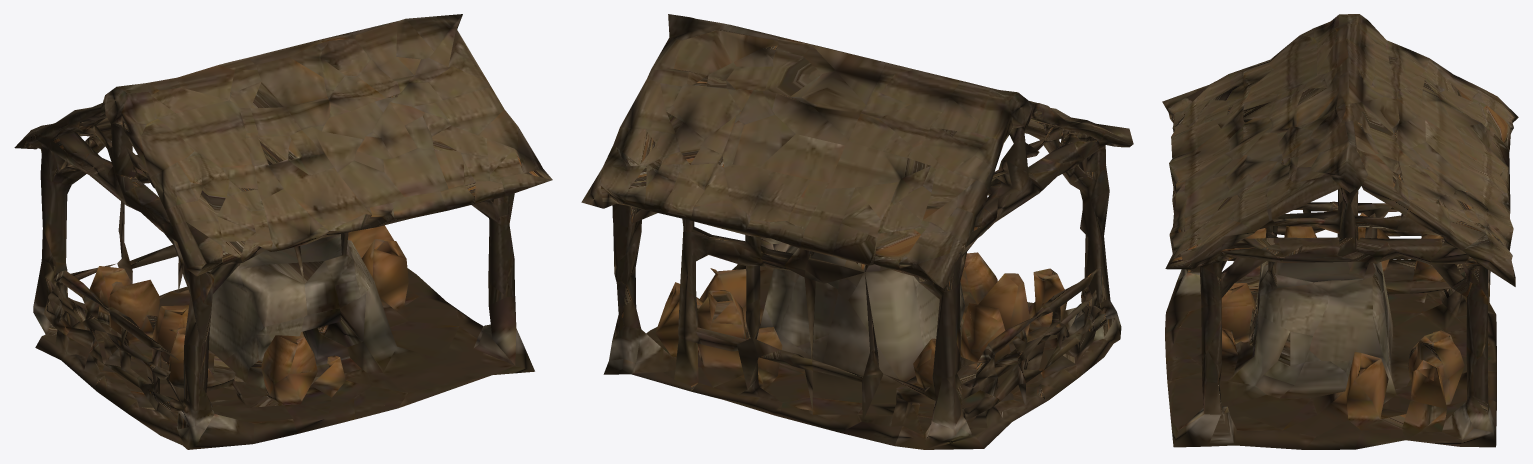
The model's file is bq_pottery.far.glb.
The picture shows the model from 3 angles, left to right: view 1: azimuth 30°, elevation 25°; view 2: azimuth 150°, elevation 25°; view 3: azimuth 270°, elevation 25°; orthographic projection. The views are drawn at different scales.
Parts seen in each view (by area): view 1: mesh_node; view 2: mesh_node; view 3: mesh_node.
Boxes of the visible parts, bbox=[...] form: mesh_node: bbox=[14, 14, 552, 449]; mesh_node: bbox=[581, 14, 1133, 449]; mesh_node: bbox=[1162, 14, 1518, 449].
Bounding box in the file's own units: 1.9 × 1.46 × 1.65.
Materials: 1 (1 with a texture image).
